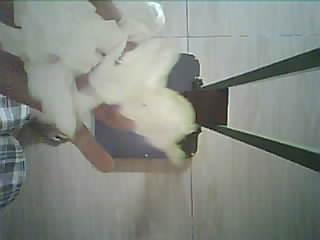paper: (0, 1, 196, 158)
